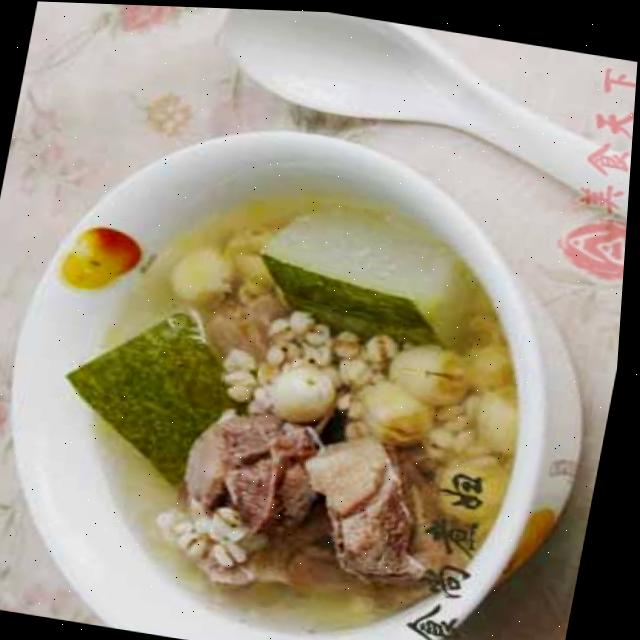汤锅炖物: (0, 69, 615, 640)
